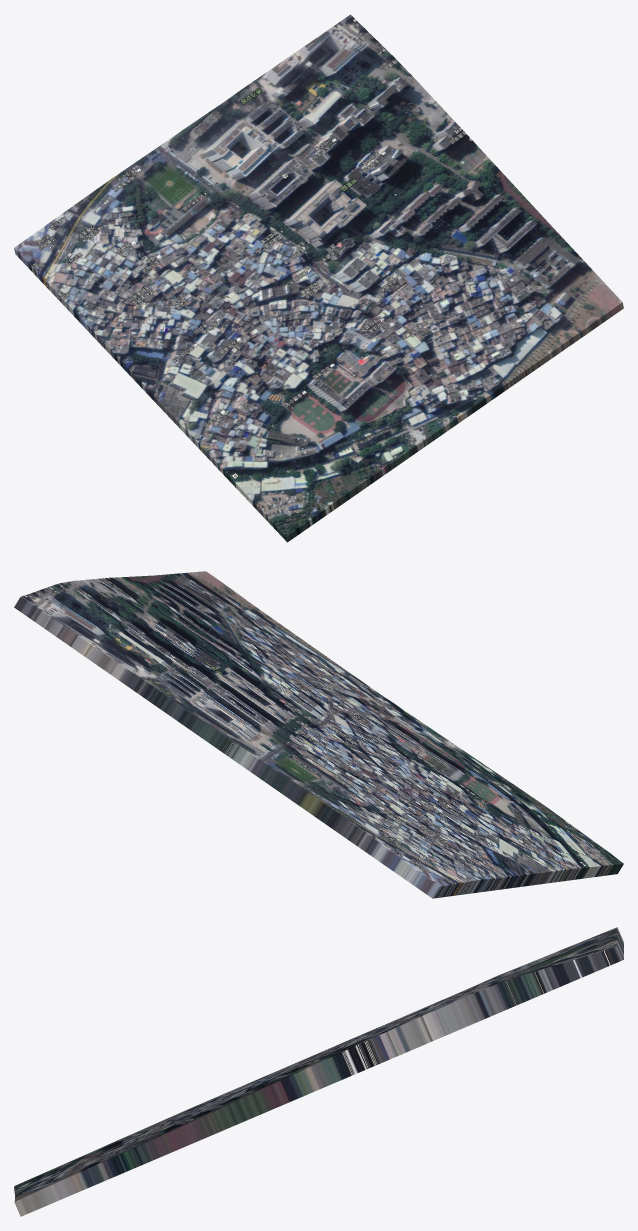
The picture shows the model from 3 angles, top to bottom: view 1: azimuth 30°, elevation 25°; view 2: azimuth 150°, elevation 25°; view 3: azimuth 270°, elevation 25°; orthographic projection. The views are drawn at different scales.
Parts seen in each view (by area): view 1: 0_16_28; view 2: 0_16_28; view 3: 0_16_28.
Boxes of the visible parts, box(x1,y1,x2,y2) form: 0_16_28: box(14, 14, 623, 542); 0_16_28: box(14, 571, 623, 898); 0_16_28: box(14, 927, 623, 1216).
Bounding box in the file's own units: 598 × 440 × 548.
Materials: 1 (1 with a texture image).
